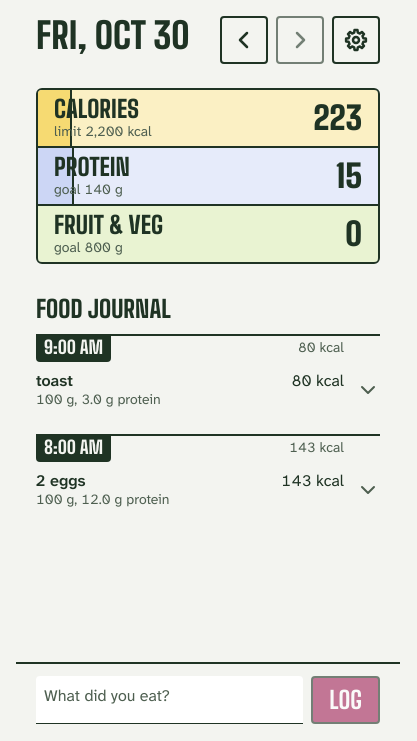
Test: deleting a logged item › keeps one row open across the whole journal, and counts a closed confirmation as cancelled
Click the button "2 eggs 143 kcal 100 g, 12.0 g protein": (61, 481) [36,462,380,518]
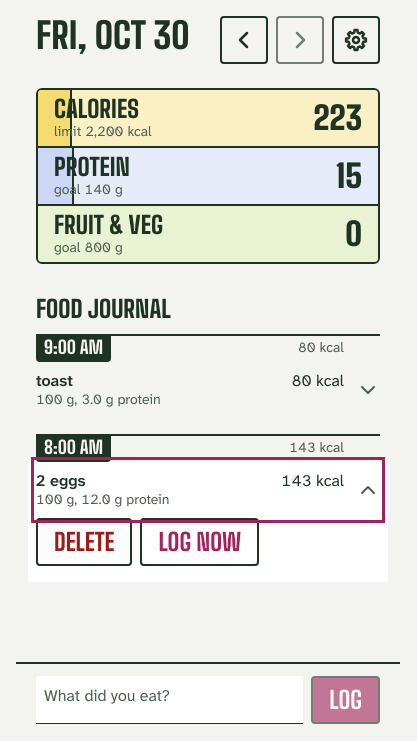
Click the button "toast 80 kcal 100 g, 3.0 g protein": (54, 381) [36,362,380,418]
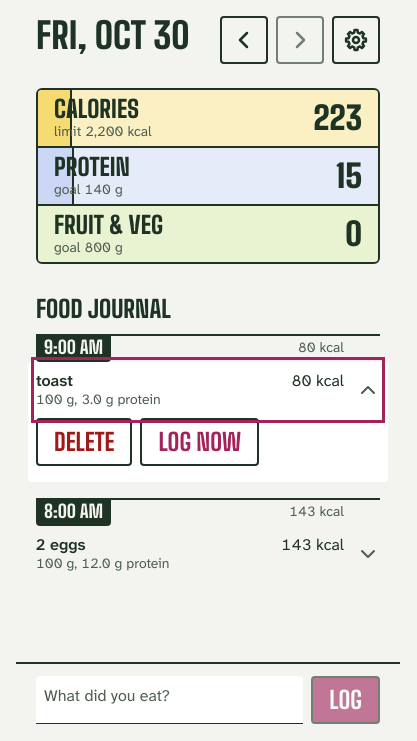
Expected: the button "2 eggs 143 kcal 100 g, 12.0 g protein" is collapsed, [36,526,380,582]
Expected: the button "toast 80 kcal 100 g, 3.0 g protein" is expanded, [36,362,380,418]
Click the button with aria-label "Delete toast": (84, 442) [36,418,132,466]
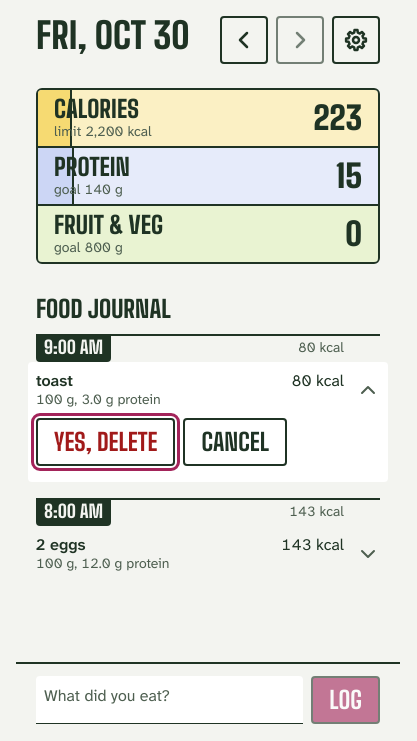
Expected: the button "Yes, delete" is shown, [36,418,175,466]
Click the button "2 eggs 143 kcal 100 g, 12.0 g protein": (61, 545) [36,526,380,582]
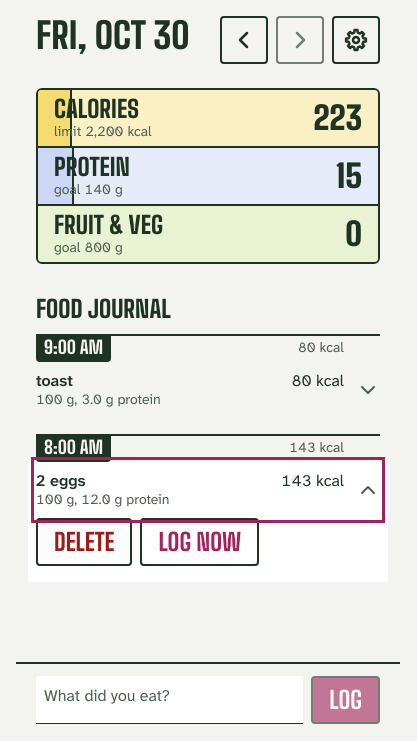
Expected: the button "toast 80 kcal 100 g, 3.0 g protein" is collapsed
Expected: the button "Yes, delete" is gone
Click the button "toast 80 kcal 100 g, 3.0 g protein": (54, 381) [36,362,380,418]
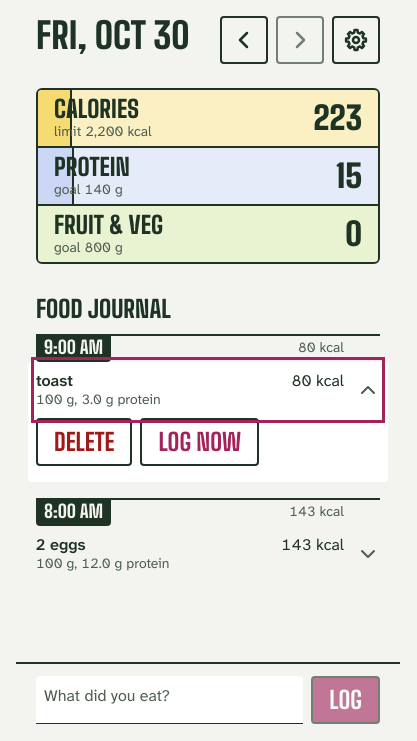
Expected: the button "Yes, delete" is not shown
Expected: the button with aria-label "Delete toast" is shown, [36,418,132,466]
